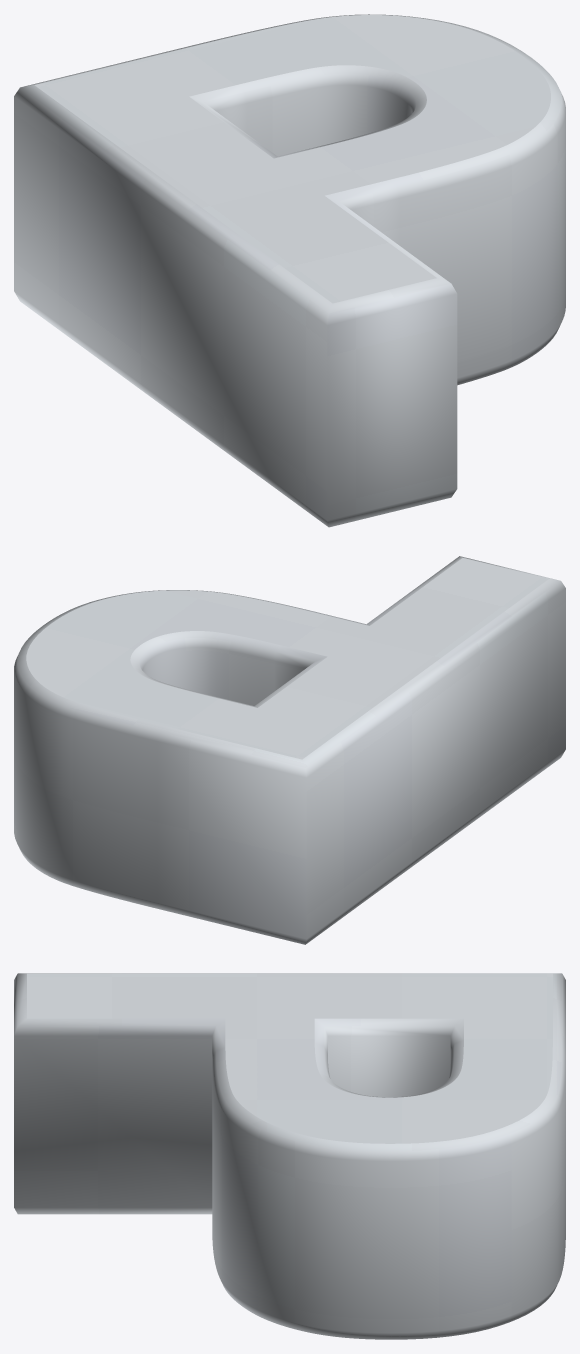
The model's file is title_letter_00.obj.
3 views of the same model, one above another, from view 1: azimuth 30°, elevation 25°; view 2: azimuth 150°, elevation 25°; view 3: azimuth 270°, elevation 25° (orthographic). The views are drawn at different scales.
Parts seen in each view (by area): view 1: TitleLetter00_P; view 2: TitleLetter00_P; view 3: TitleLetter00_P.
Boxes of the visible parts, x1,y1,x2,y2 form: TitleLetter00_P: (14, 14, 565, 527); TitleLetter00_P: (14, 556, 565, 944); TitleLetter00_P: (14, 973, 565, 1339).
Size of the model in its own units: 0.8708 by 0.4376 by 1.12.
1 material, 1 textured.
